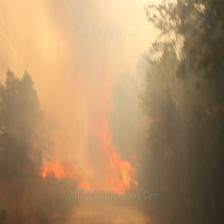fire: (21, 118, 160, 207)
